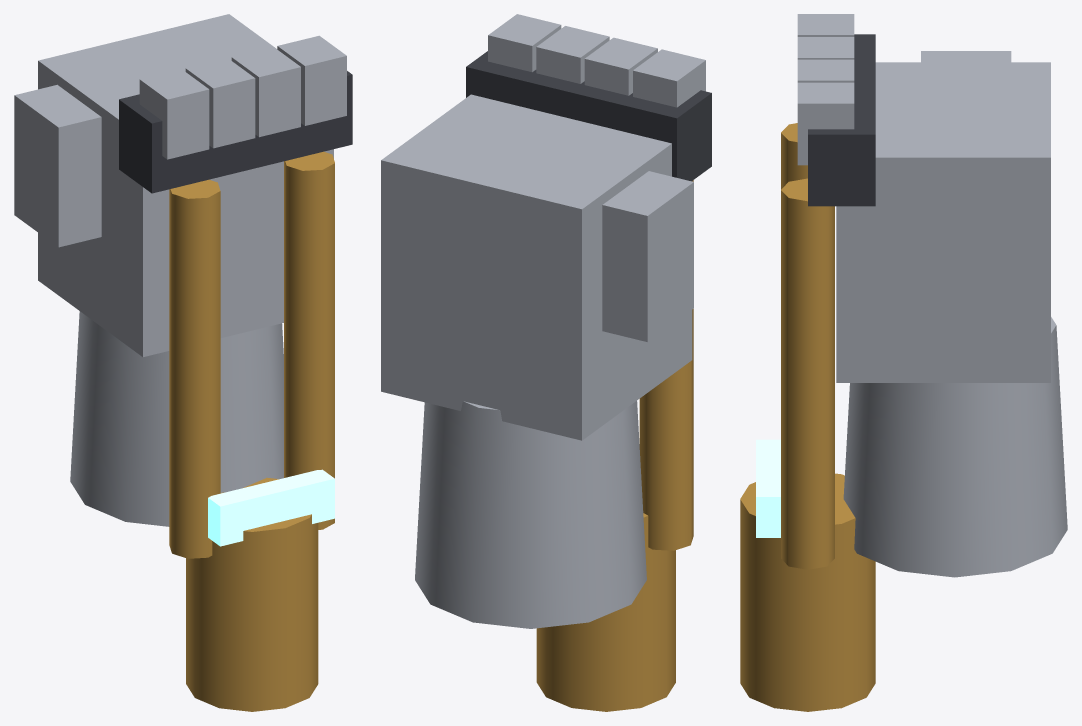
File: pressure_fist.glb
3 views of the same model, side by side, from view 1: azimuth 30°, elevation 25°; view 2: azimuth 150°, elevation 25°; view 3: azimuth 270°, elevation 25° (orthographic). The views are drawn at different scales.
Visible parts, largest first — view 1: PressureFist_Shell, PressureFist_Pistons, PressureFist_Trim, PressureFist_Glow; view 2: PressureFist_Shell, PressureFist_Pistons, PressureFist_Trim; view 3: PressureFist_Shell, PressureFist_Pistons, PressureFist_Trim, PressureFist_Glow.
Boxes of the visible parts, x1=… form: PressureFist_Shell: x1=14, y1=14, x2=346, y2=526; PressureFist_Pistons: x1=169, y1=151, x2=334, y2=711; PressureFist_Trim: x1=119, y1=71, x2=352, y2=193; PressureFist_Glow: x1=208, y1=469, x2=334, y2=546; PressureFist_Shell: x1=381, y1=14, x2=705, y2=628; PressureFist_Pistons: x1=536, y1=180, x2=693, y2=711; PressureFist_Trim: x1=466, y1=51, x2=711, y2=181; PressureFist_Shell: x1=797, y1=14, x2=1067, y2=577; PressureFist_Pistons: x1=740, y1=123, x2=875, y2=711; PressureFist_Trim: x1=808, y1=34, x2=875, y2=206; PressureFist_Glow: x1=756, y1=439, x2=780, y2=537.
Size of the model in its own units: 0.125 by 0.305 by 0.145.
